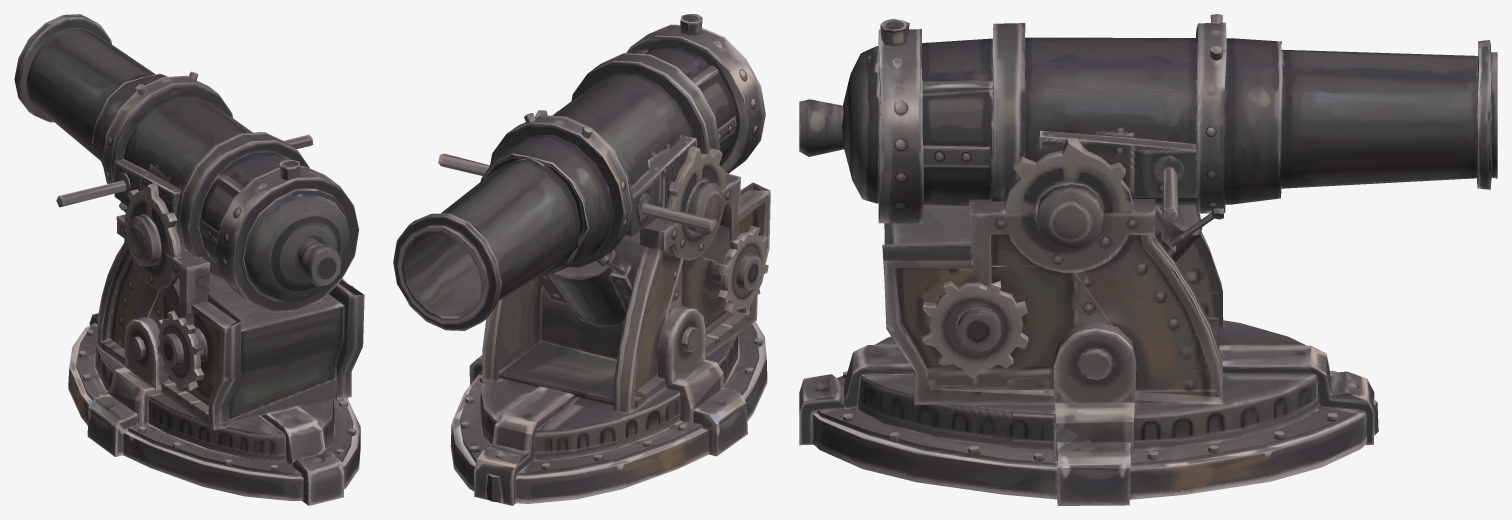
File: cannon33a-side-3000.glb
3 renders of one model, left to right at view 1: azimuth 30°, elevation 25°; view 2: azimuth 150°, elevation 25°; view 3: azimuth 270°, elevation 25°, orthographic. The views are drawn at different scales.
Visible parts, largest first — view 1: mount, barrel; view 2: mount, barrel; view 3: mount, barrel.
Part boxes in pixels (left/top/right/bottom): mount: left=56, top=134, right=364, bottom=505; barrel: left=14, top=14, right=359, bottom=312; mount: left=438, top=110, right=770, bottom=505; barrel: left=393, top=14, right=765, bottom=330; mount: left=799, top=138, right=1378, bottom=505; barrel: left=799, top=14, right=1497, bottom=246.
Size of the model in its own units: 1.64 by 1.94 by 3.
1 material, 1 textured.
